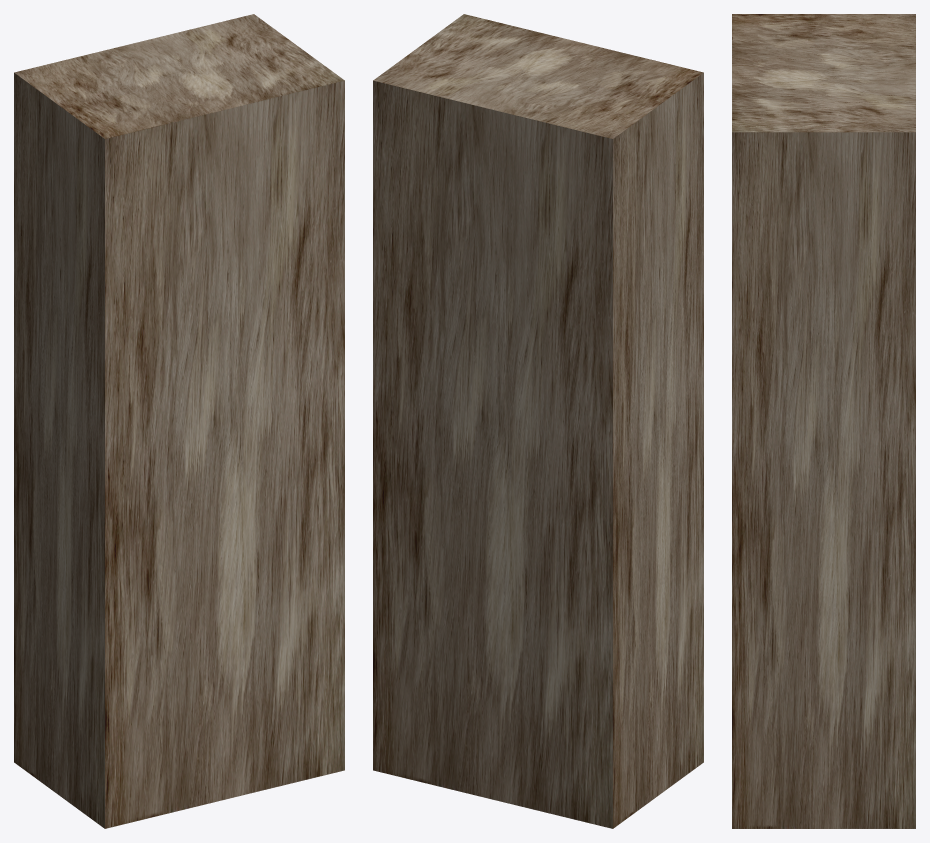
The model's file is protoenemy_busyo.fbx.
The picture shows the model from 3 angles, left to right: view 1: azimuth 30°, elevation 25°; view 2: azimuth 150°, elevation 25°; view 3: azimuth 270°, elevation 25°; orthographic projection.
Parts seen in each view (by area): view 1: Box002; view 2: Box002; view 3: Box002.
Boxes of the visible parts, <box> form: Box002: <box>14,14,344,828</box>; Box002: <box>373,14,703,828</box>; Box002: <box>732,14,915,828</box>.
Bounding box in the file's own units: 79.4 × 52.13 × 218.
